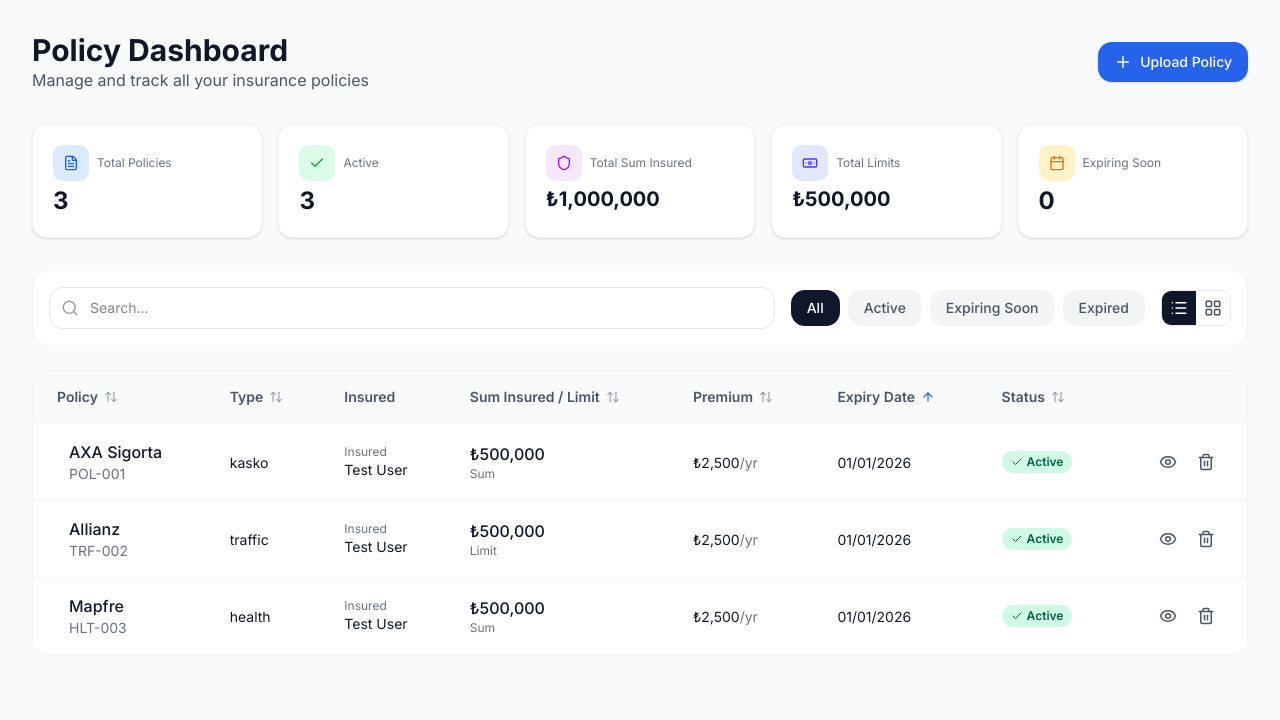
Scenario: PolicyDashboard Branch Coverage › Search filtering › filters by policyNumber
Type "TRF" into the field with placeholder "Search...".
click(412, 308); type("TRF")  # box [49,287,775,329]
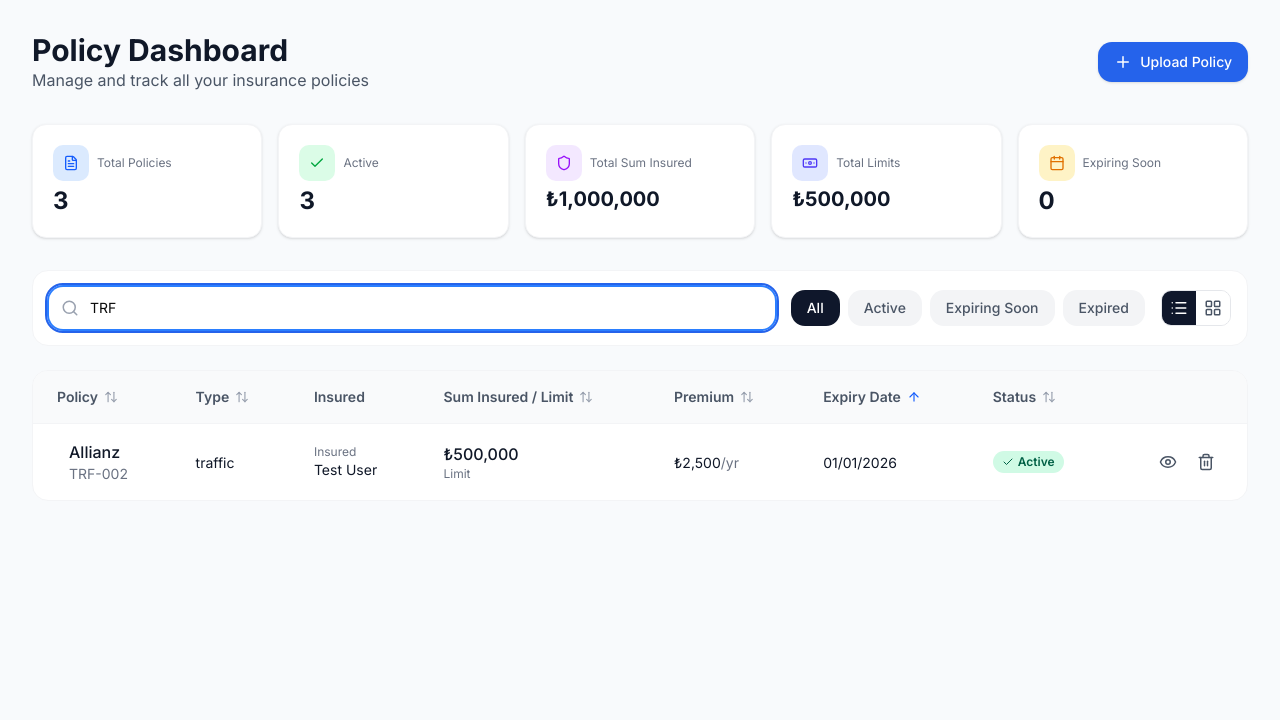
expect the text "TRF-002" is shown: met, box [69,464,128,484]
expect the text "POL-001" is gone: met
